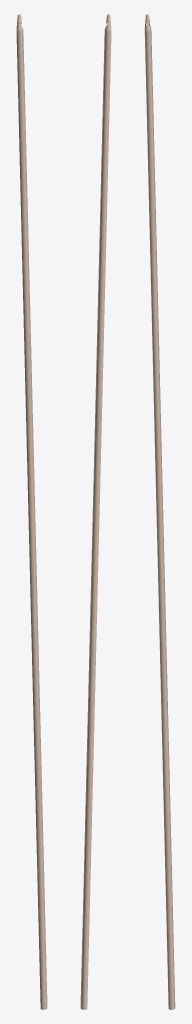
Rendered from Tige balancier_instance_1.obj.
3 views of the same model, side by side, from view 1: azimuth 30°, elevation 25°; view 2: azimuth 150°, elevation 25°; view 3: azimuth 330°, elevation 25° (orthographic).
Visible parts, largest first — view 1: Face_2; view 2: Face_2; view 3: Face_2.
Part boxes in pixels (x1,y1,x2,y2): Face_2: (16, 30, 47, 1009); Face_2: (80, 30, 111, 1009); Face_2: (144, 29, 175, 1009).
Size of the model in its own units: 0.0188 by 0.5999 by 0.0038.
